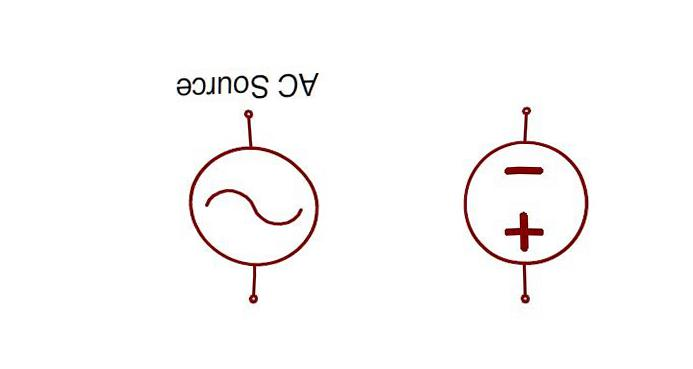Battery: (447, 110, 611, 272)
